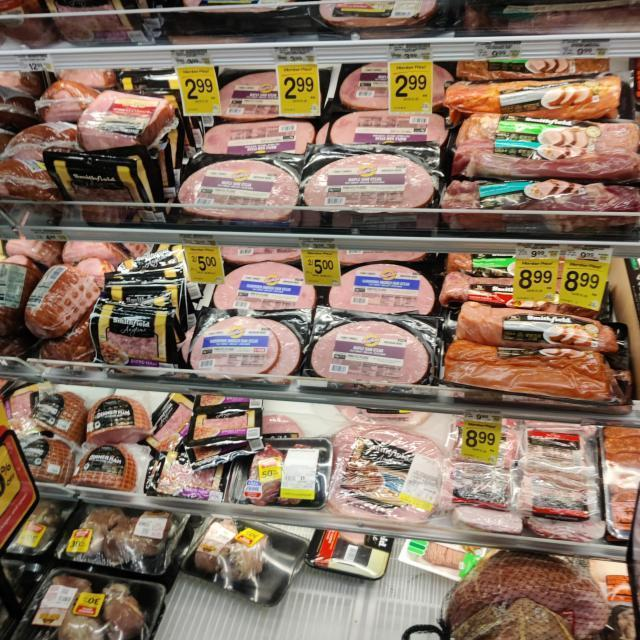Meat: (427, 290, 640, 414), (425, 550, 640, 640), (315, 416, 446, 529), (193, 514, 321, 622), (464, 103, 640, 178), (302, 314, 440, 405), (430, 167, 640, 225), (302, 152, 442, 230), (88, 261, 178, 376), (449, 420, 534, 538), (172, 152, 298, 226), (182, 312, 298, 384), (530, 422, 604, 534), (67, 75, 172, 149), (59, 510, 183, 572), (159, 399, 269, 459), (24, 250, 98, 339), (87, 386, 154, 442), (71, 442, 142, 492)
